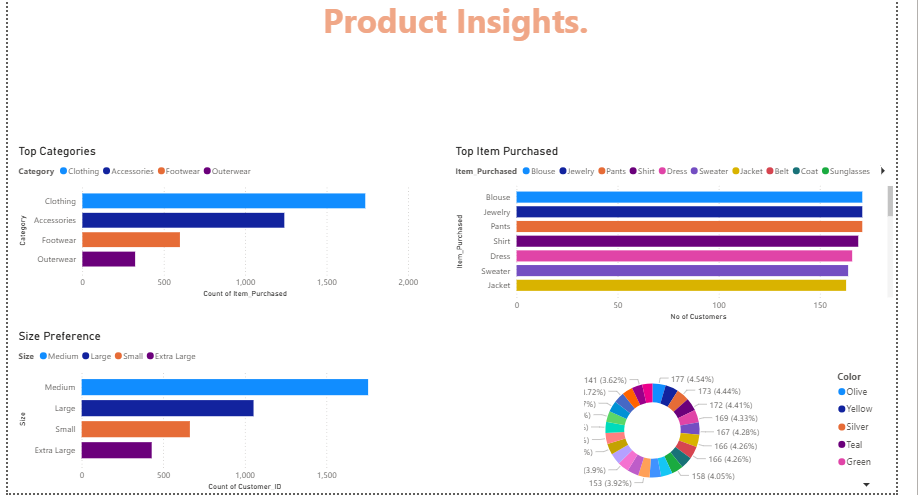

The page's visual inventory and layout, read from the dashboard file:
{"tool":"powerbi","page":{"name":"Page 4","canvas":[1280,720],"ordinal":3},"visuals":[{"type":"barChart","title":"Top Categories","fields":{"Category":["shopping_behavior_updated (1)(working sheet).Category"],"Y":["CountNonNull(shopping_behavior_updated (1)(working sheet).Item_Purchased)"],"Series":["shopping_behavior_updated (1)(working sheet).Category"]},"box":[10.8,217.5,586.1,226.5],"z":0},{"type":"barChart","title":"Top Item Purchased","fields":{"Category":["shopping_behavior_updated (1)(working sheet).Item_Purchased"],"Y":["CountNonNull(shopping_behavior_updated (1)(working sheet).Customer_ID)"],"Series":["shopping_behavior_updated (1)(working sheet).Item_Purchased"]},"box":[640,217.5,640,258.9],"z":1000},{"type":"donutChart","title":"Color Preference","fields":{"Category":["shopping_behavior_updated (1)(working sheet).Color"],"Y":["CountNonNull(shopping_behavior_updated (1)(working sheet).Customer_ID)"]},"box":[656.2,519.6,623.8,201.3],"z":2000},{"type":"barChart","title":"Size Preference","fields":{"Category":["shopping_behavior_updated (1)(working sheet).Size"],"Y":["CountNonNull(shopping_behavior_updated (1)(working sheet).Customer_ID)"],"Series":["shopping_behavior_updated (1)(working sheet).Size"]},"box":[10.8,483.6,586.1,237.3],"z":3000},{"type":"textbox","box":[541,484,288,236],"z":4000},{"type":"textbox","box":[10.8,0,1269.2,115.1],"z":5000}]}

Visuals, with their boxes on the page's 1280x720 design canvas (x1, y1, x2, y2). These are canvas units, not pixel positions in the 920x495 screenshot, which may show the page scaled, cropped or inside an application window:
"Top Categories" barChart: <box>11,218,597,444</box>
"Top Item Purchased" barChart: <box>640,218,1280,476</box>
"Color Preference" donutChart: <box>656,520,1280,721</box>
"Size Preference" barChart: <box>11,484,597,721</box>
textbox: <box>541,484,829,720</box>
textbox: <box>11,0,1280,115</box>
